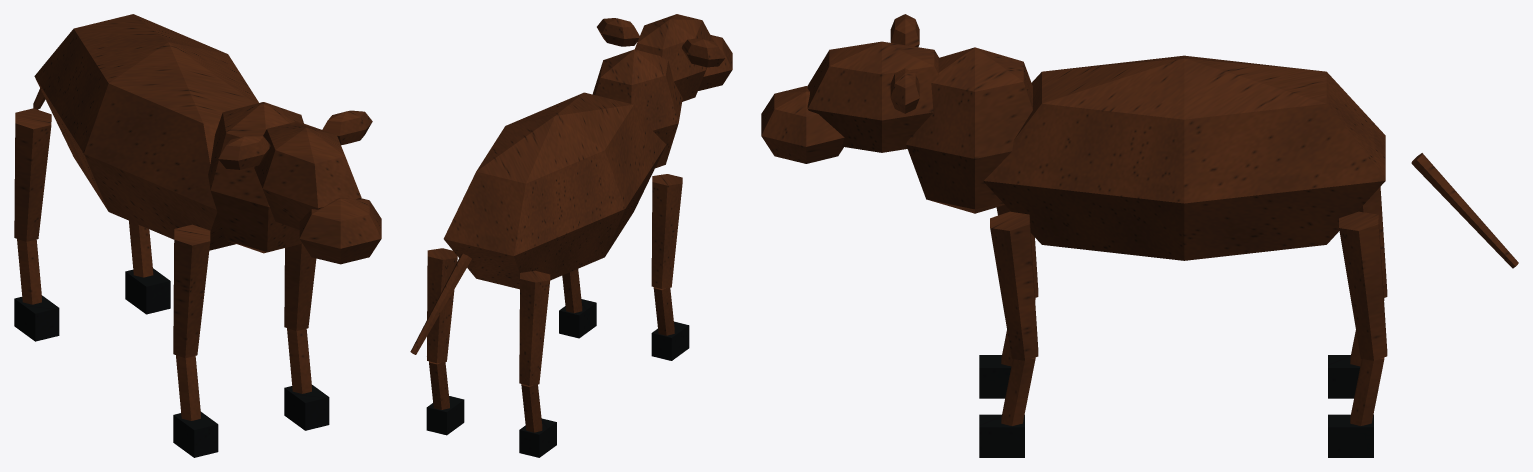
Rendered from PROP-06B4CC358501_lod2.glb.
3 views of the same model, side by side, from view 1: azimuth 30°, elevation 25°; view 2: azimuth 150°, elevation 25°; view 3: azimuth 270°, elevation 25° (orthographic). The views are drawn at different scales.
Visible parts, largest first — view 1: animal_torso.001, upper_leg.001, animal_head.001, animal_neck.001, hoof.001, lower_leg.001, muzzle.001, animal_ears.001; view 2: animal_torso.001, upper_leg.001, animal_neck.001, hoof.001, animal_head.001, lower_leg.001, animal_ears.001, tail.001, muzzle.001; view 3: animal_torso.001, animal_neck.001, upper_leg.001, animal_head.001, hoof.001, muzzle.001, lower_leg.001, animal_ears.001, tail.001.
Part boxes in pixels (bbox=[...]): animal_torso.001: bbox=[34, 14, 258, 250]; upper_leg.001: bbox=[14, 108, 316, 358]; animal_head.001: bbox=[254, 121, 361, 229]; animal_neck.001: bbox=[208, 102, 303, 253]; hoof.001: bbox=[14, 268, 329, 457]; lower_leg.001: bbox=[17, 221, 311, 420]; muzzle.001: bbox=[299, 198, 381, 264]; animal_ears.001: bbox=[218, 110, 372, 169]; animal_torso.001: bbox=[443, 92, 666, 289]; upper_leg.001: bbox=[427, 174, 682, 385]; animal_neck.001: bbox=[592, 49, 682, 168]; hoof.001: bbox=[426, 299, 689, 457]; animal_head.001: bbox=[635, 14, 713, 101]; lower_leg.001: bbox=[429, 269, 674, 432]; animal_ears.001: bbox=[597, 18, 725, 67]; tail.001: bbox=[410, 253, 471, 354]; muzzle.001: bbox=[698, 35, 732, 90]; animal_torso.001: bbox=[983, 55, 1385, 260]; animal_neck.001: bbox=[906, 47, 1032, 213]; upper_leg.001: bbox=[990, 187, 1387, 360]; animal_head.001: bbox=[807, 41, 939, 152]; hoof.001: bbox=[979, 355, 1373, 457]; muzzle.001: bbox=[761, 86, 844, 163]; lower_leg.001: bbox=[1001, 298, 1384, 425]; animal_ears.001: bbox=[890, 14, 919, 113]; tail.001: bbox=[1411, 153, 1518, 268].
Bounding box in the file's own units: 0.7 × 1.37 × 2.47.
2 materials, 2 textured.
